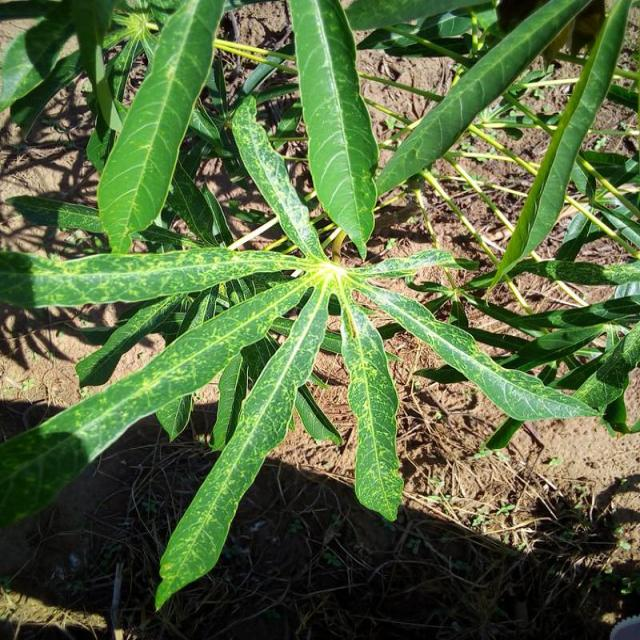cassava leaf: (2, 0, 638, 609), (154, 276, 333, 611), (97, 0, 226, 252), (288, 0, 381, 261)
